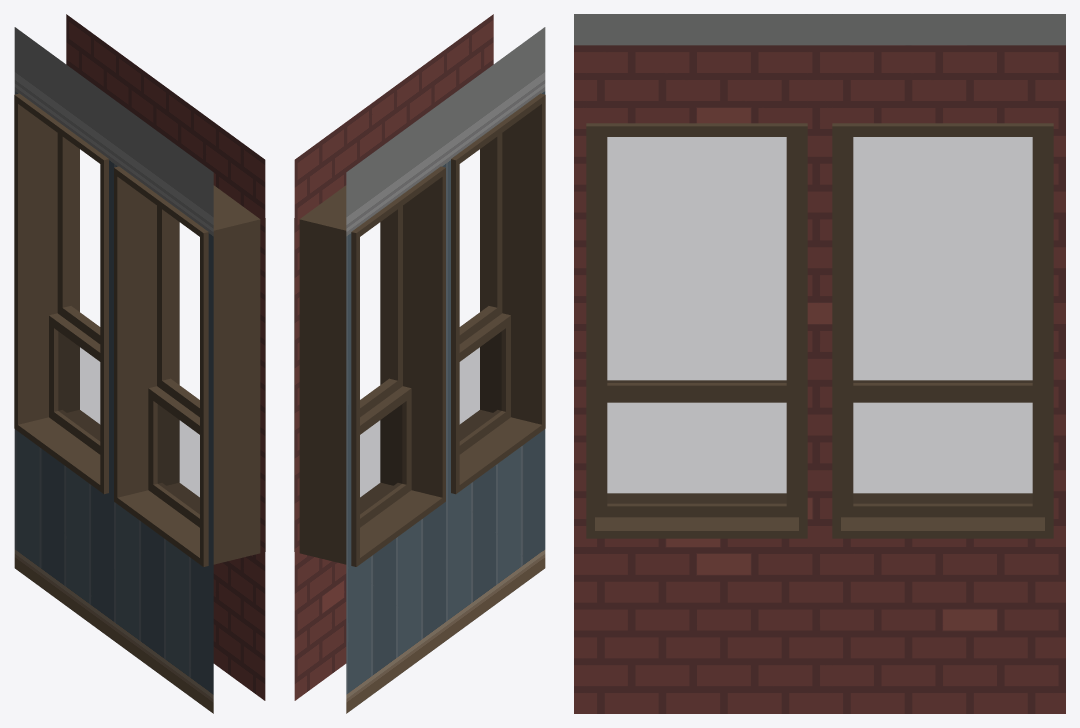
The model's file is SM_window_05_half.glb.
The picture shows the model from 3 angles, left to right: view 1: azimuth 30°, elevation 25°; view 2: azimuth 150°, elevation 25°; view 3: azimuth 270°, elevation 25°; orthographic projection. The views are drawn at different scales.
Parts seen in each view (by area): view 1: SM_window_05_half; view 2: SM_window_05_half; view 3: SM_window_05_half.
Part boxes in pixels (left/top/right/bottom): SM_window_05_half: left=14, top=14, right=265, bottom=713; SM_window_05_half: left=294, top=14, right=545, bottom=713; SM_window_05_half: left=574, top=14, right=1065, bottom=713.
Bounding box in the file's own units: 0.36 × 3 × 2.
4 materials, 3 textured.
